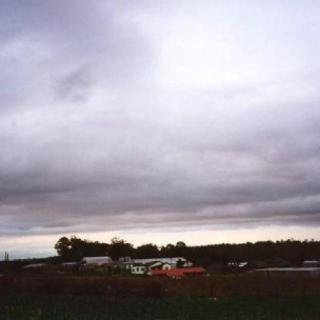Stratocumulus: (0, 0, 320, 234)
